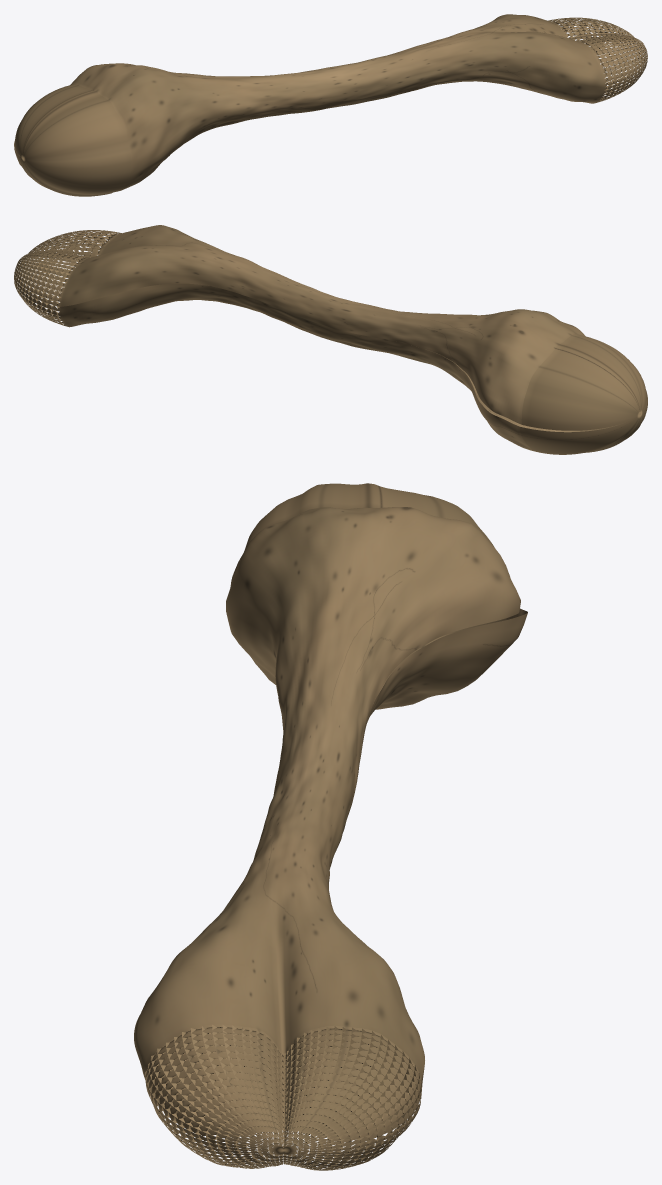
The model's file is Bone_Femur.glb.
The picture shows the model from 3 angles, top to bottom: view 1: azimuth 30°, elevation 25°; view 2: azimuth 150°, elevation 25°; view 3: azimuth 270°, elevation 25°; orthographic projection. The views are drawn at different scales.
Parts seen in each view (by area): view 1: Bone_Femur; view 2: Bone_Femur; view 3: Bone_Femur.
Boxes of the visible parts, x1,y1,x2,y2 form: Bone_Femur: (14, 14, 647, 196); Bone_Femur: (14, 225, 647, 454); Bone_Femur: (134, 483, 527, 1170).
Size of the model in its own units: 0.3 by 0.0531 by 0.0858.
Materials: 1 (1 with a texture image).
